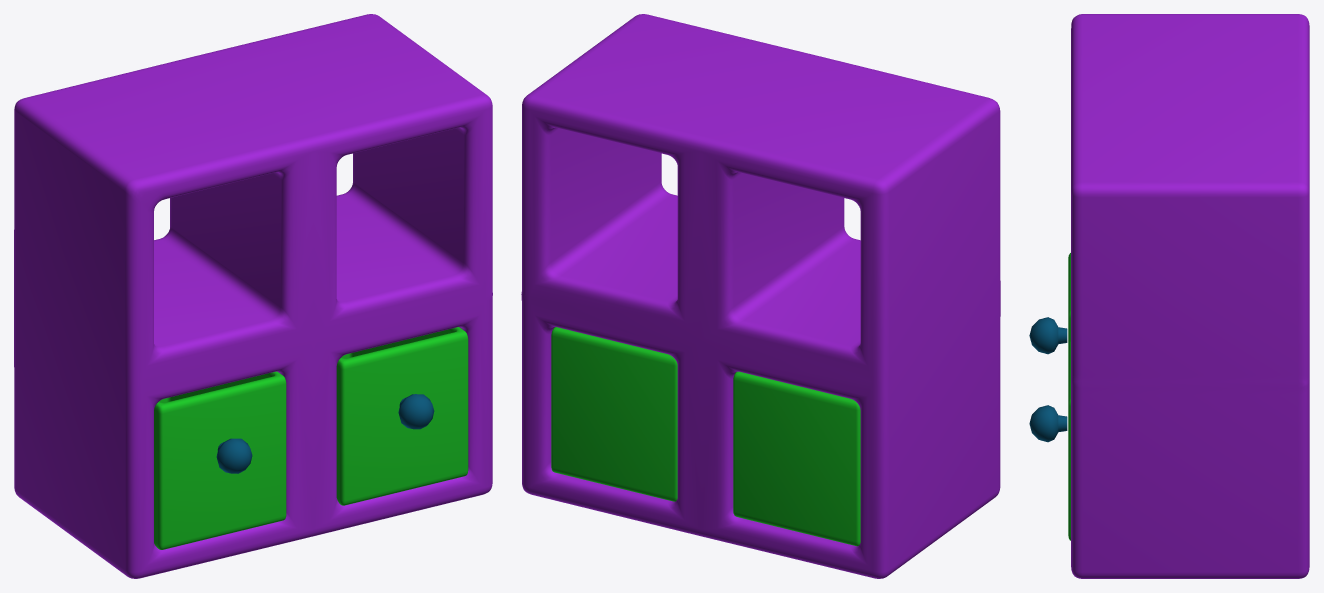
Rendered from Shelf_with_Drawers.fbx.
The picture shows the model from 3 angles, left to right: view 1: azimuth 30°, elevation 25°; view 2: azimuth 150°, elevation 25°; view 3: azimuth 270°, elevation 25°; orthographic projection.
Parts seen in each view (by area): view 1: Shelf_with_Drawer; view 2: Shelf_with_Drawer; view 3: Shelf_with_Drawer.
Boxes of the visible parts, <box> form: Shelf_with_Drawer: <box>14,14,492,578</box>; Shelf_with_Drawer: <box>521,14,1000,578</box>; Shelf_with_Drawer: <box>1029,14,1309,578</box>.
Size of the model in its own units: 22.55 by 23.49 by 15.09.
